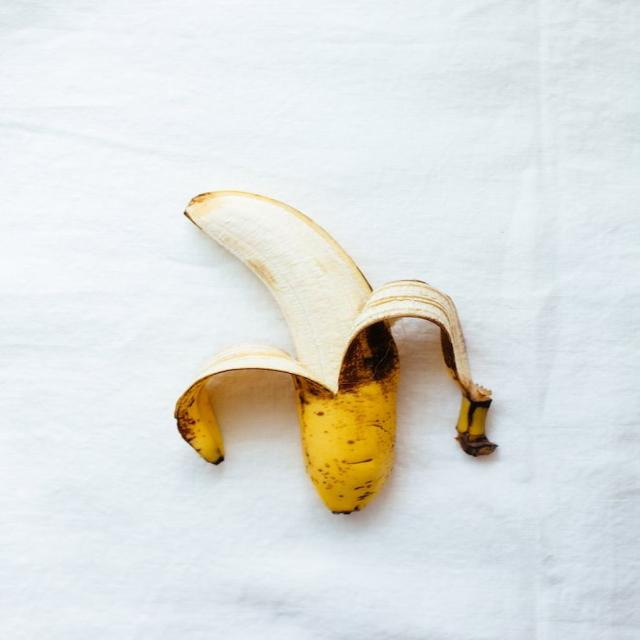banana: (176, 192, 495, 513)
